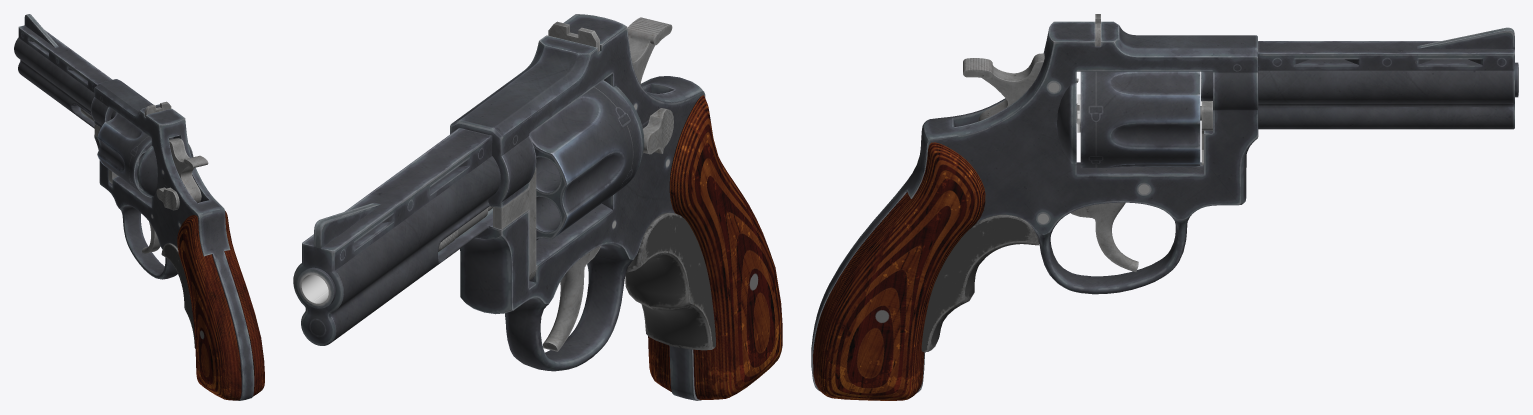
File: revolver.glb
3 renders of one model, left to right at view 1: azimuth 30°, elevation 25°; view 2: azimuth 150°, elevation 25°; view 3: azimuth 270°, elevation 25°, orthographic. The views are drawn at different scales.
Parts seen in each view (by area): view 1: Object_2, Object_4, Object_5, Object_3; view 2: Object_2, Object_4, Object_3, Object_5, Object_6; view 3: Object_2, Object_4, Object_3, Object_5.
Boxes of the visible parts, x1,y1,x2,y2 form: Object_2: [14, 14, 242, 400]; Object_4: [18, 15, 264, 400]; Object_5: [111, 110, 254, 400]; Object_3: [97, 113, 192, 257]; Object_2: [302, 14, 715, 400]; Object_4: [297, 21, 782, 399]; Object_3: [293, 80, 711, 351]; Object_5: [466, 243, 696, 400]; Object_6: [438, 206, 492, 251]; Object_2: [811, 19, 1518, 393]; Object_4: [813, 14, 1518, 400]; Object_3: [928, 53, 1514, 351]; Object_5: [811, 71, 1243, 381].
Size of the model in its own units: 38.17 by 143 by 248.
Materials: 2 (2 with a texture image).
